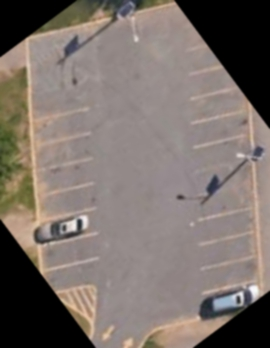parkingspot: (176, 4, 266, 323), (26, 102, 109, 297)
